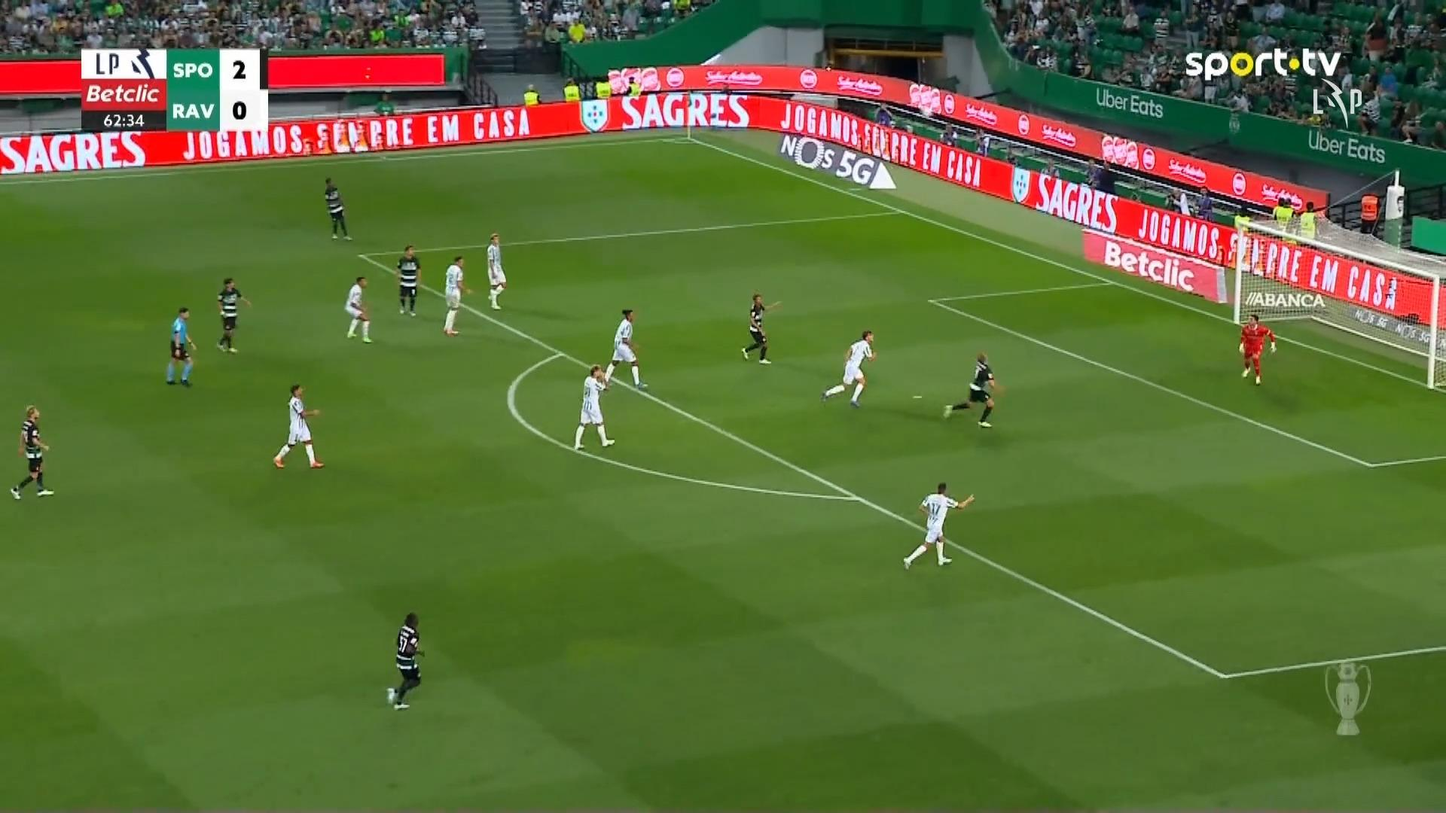goalkeeper: (1237, 312, 1277, 385)
player: (901, 481, 975, 570), (272, 383, 325, 469), (820, 329, 876, 407), (942, 351, 998, 428), (9, 405, 54, 500), (601, 308, 648, 390), (572, 364, 615, 450), (386, 611, 423, 710), (740, 292, 781, 364), (215, 276, 251, 353), (442, 255, 471, 336), (344, 276, 372, 343), (395, 244, 421, 316), (323, 176, 352, 240), (486, 233, 506, 309)
referee: (165, 306, 197, 386)
